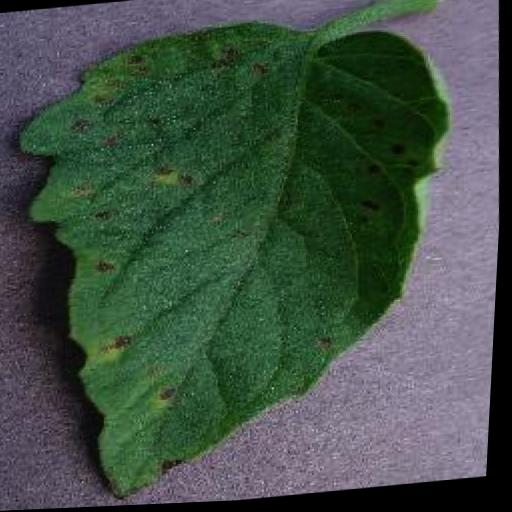Septoria: (0, 12, 471, 508)
